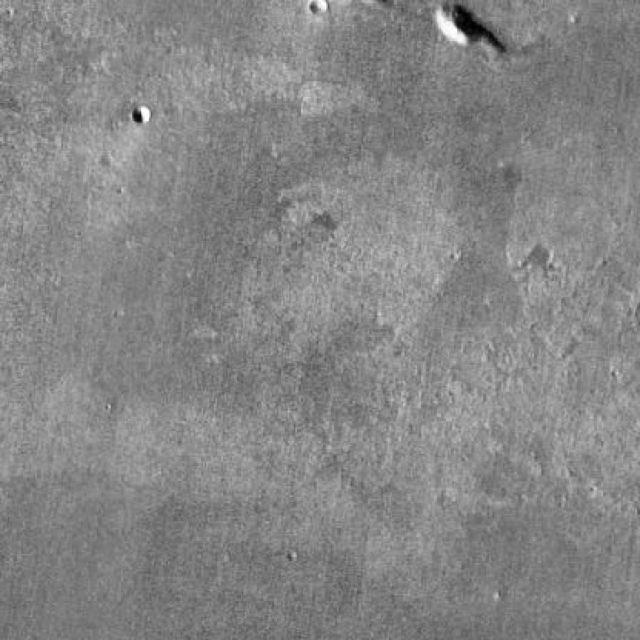crater: (132, 105, 152, 123), (310, 0, 327, 12)
